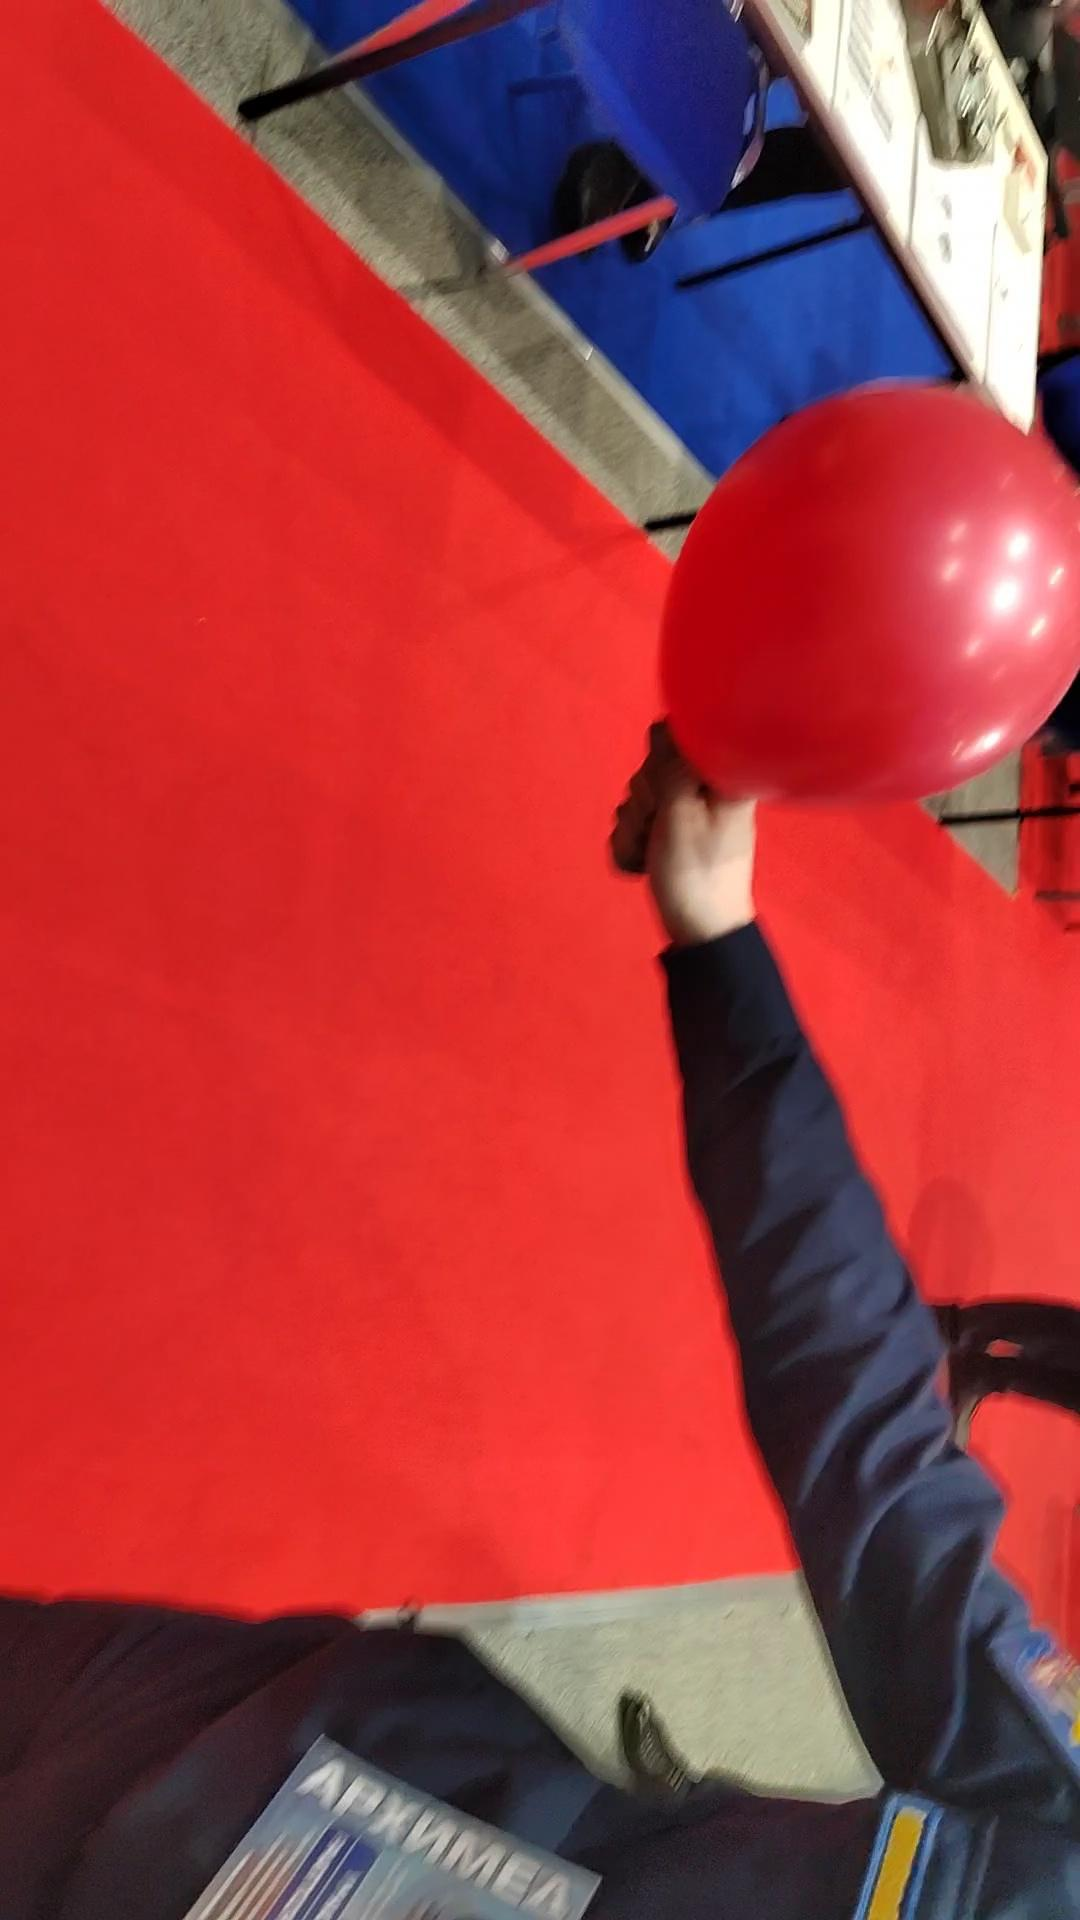red: (644, 364, 1080, 829)
